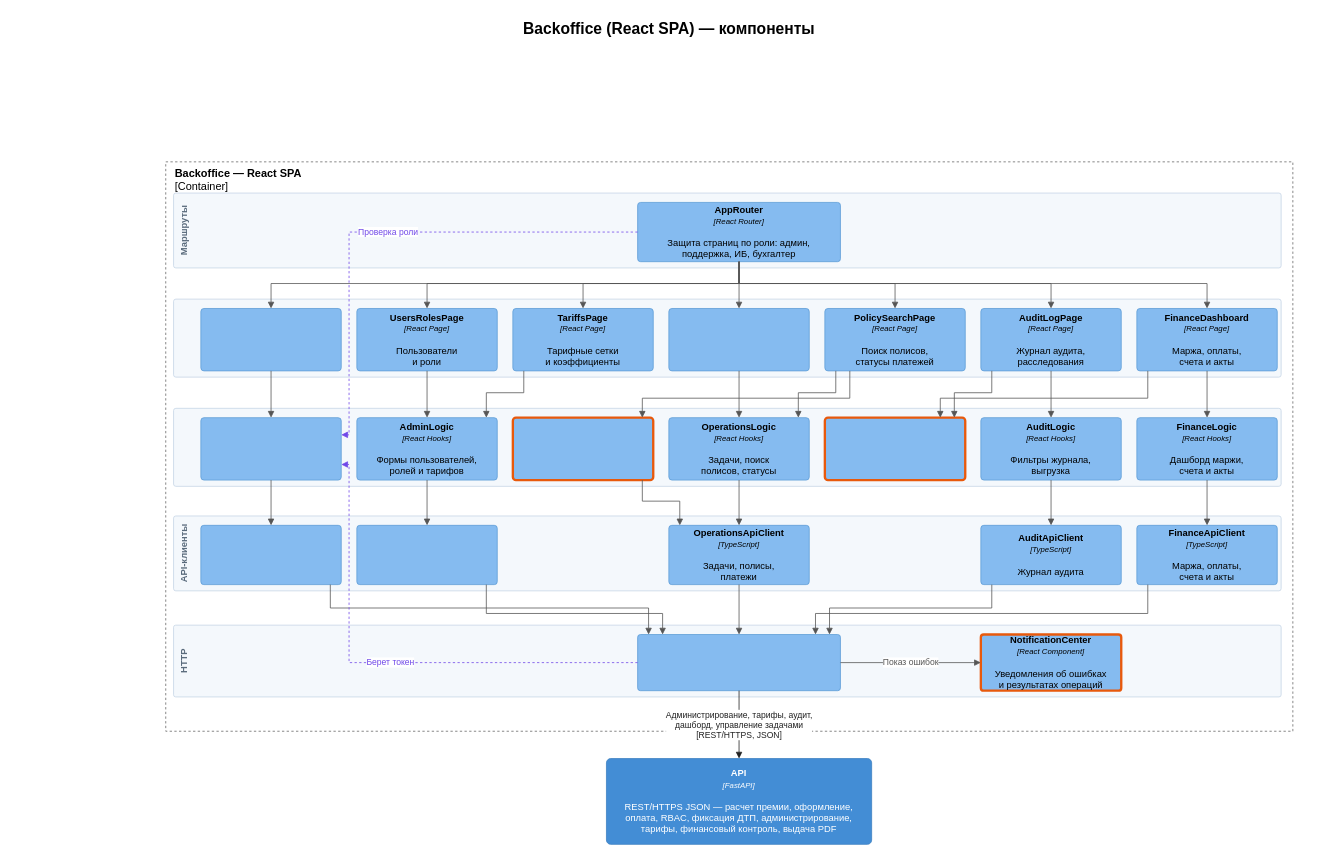
Image size: 1337x858. Some labels were removed from this diagram. Each missing label, with the box of its shape:
AdminApiClient [TypeScript] Пользователи, роли, тарифы: (356, 525, 497, 585)
AuthApiClient [TypeScript] Запрос и проверка кода, токен: (200, 525, 341, 585)
AuthLogic [React Context] Токен и роль пользователя: (200, 417, 341, 480)
DocumentViewer [React Component] Просмотр PDF полисов, протоколов и актов: (511, 416, 654, 481)
HttpClient [axios] Токен в каждом запросе, 401/403, повторы: (637, 634, 840, 691)
LoginPage [React Page] Вход по одноразовому коду: (200, 308, 341, 371)
ReportExporter [SheetJS] Выгрузка отчетов и журнала в Excel / CSV: (823, 416, 966, 481)
TasksPage [React Page] Сбойные задачи, перезапуск: (668, 308, 809, 371)
Логика: (173, 408, 1281, 486)
Страницы: (173, 298, 1281, 377)
